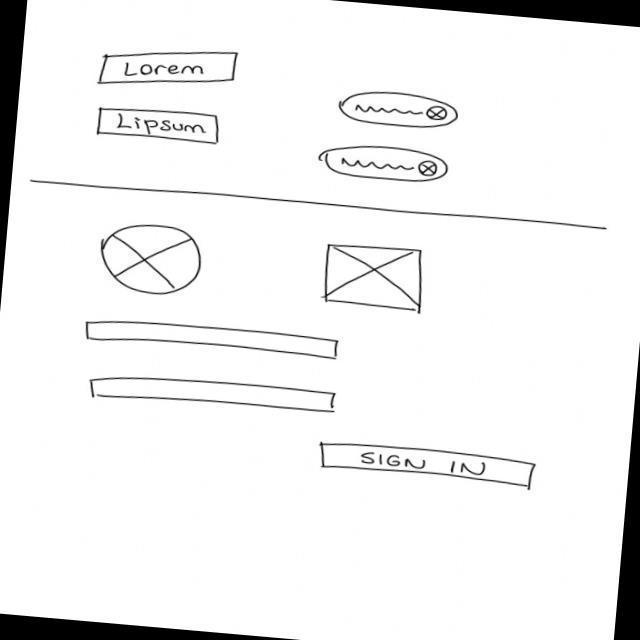button: (316, 439, 539, 491), (97, 39, 241, 97), (95, 103, 223, 147)
image: (96, 220, 207, 300), (322, 240, 430, 314)
input: (88, 368, 338, 421), (83, 315, 342, 364)
